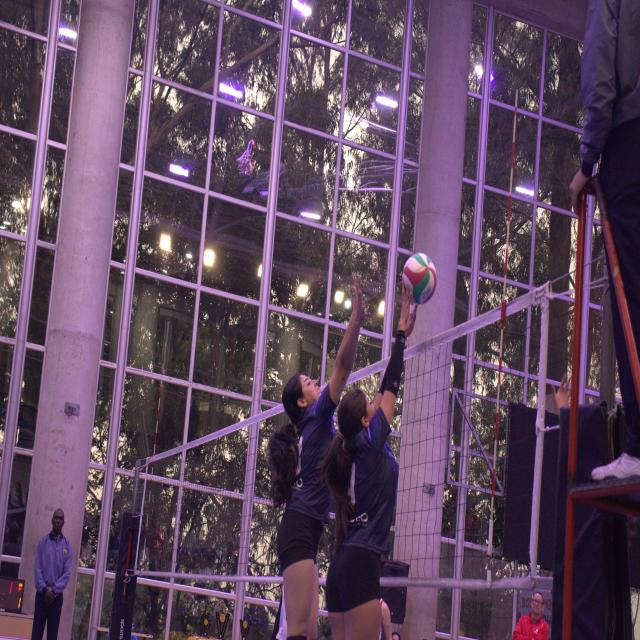volleyball: (400, 251, 438, 305)
